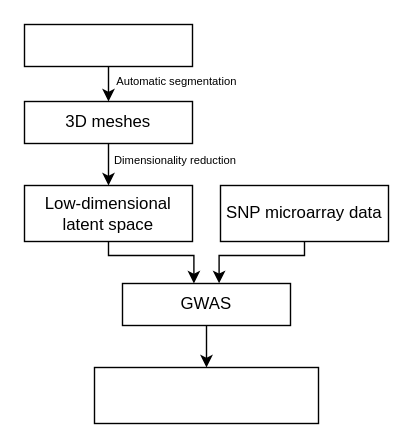
Image size: 413x448. Some labels were removed from this diagram. Here are the shapes that lost their labels. From the top down, the centre of each, then its label:
At (107,44): "CMR images".
At (205,395): "Downstream analysis of findings".
